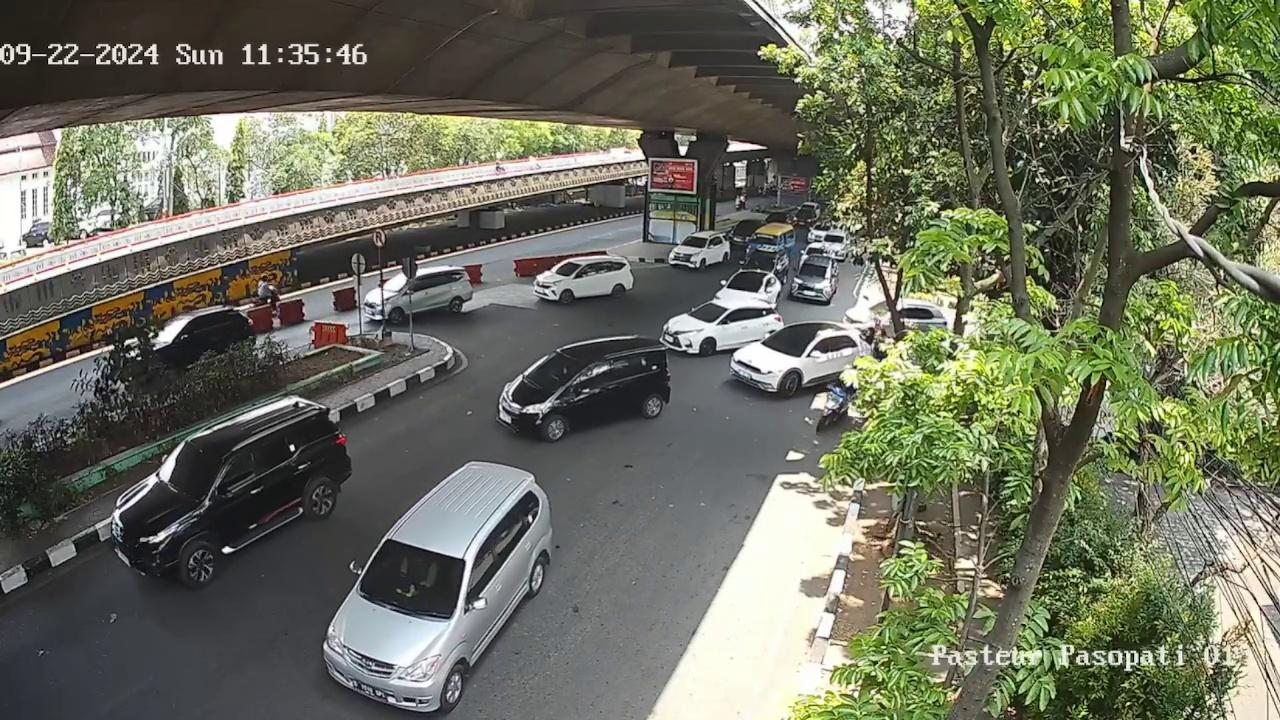tidak-pakai: (398, 547, 434, 589)
windshield: (361, 539, 463, 619), (151, 444, 234, 491), (524, 350, 584, 391), (763, 325, 812, 356), (688, 301, 728, 323), (725, 274, 766, 292), (798, 260, 833, 281)
